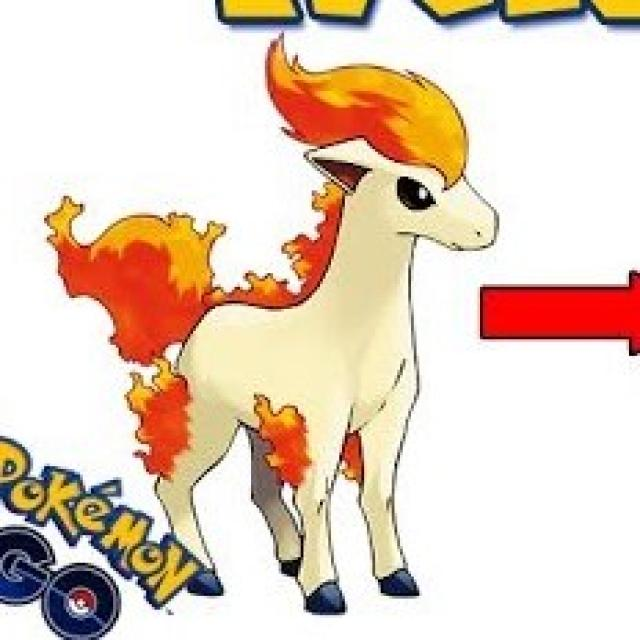Ponyta: (144, 58, 488, 556)
